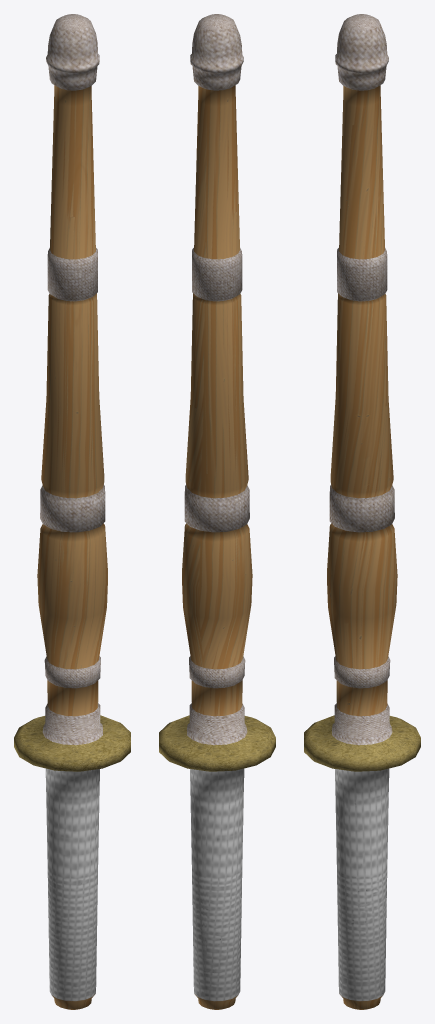
The model's file is SinaiVer4.fbx.
3 views of the same model, side by side, from view 1: azimuth 90°, elevation 25°; view 2: azimuth 150°, elevation 25°; view 3: azimuth 270°, elevation 25° (orthographic).
Visible parts, largest first — view 1: Body.003; view 2: Body.003; view 3: Body.003.
Boxes of the visible parts, x1=… form: Body.003: x1=14, y1=14, x2=130, y2=1009; Body.003: x1=159, y1=14, x2=275, y2=1009; Body.003: x1=304, y1=14, x2=420, y2=1009.
Bounding box in the file's own units: 9.83 × 9.78 × 91.07.
